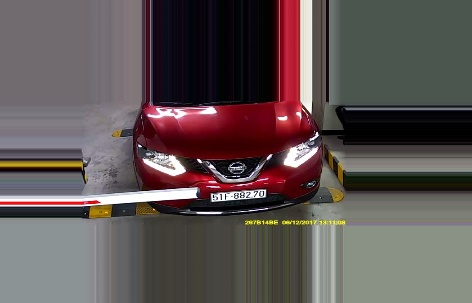plate: (209, 185, 265, 203)
